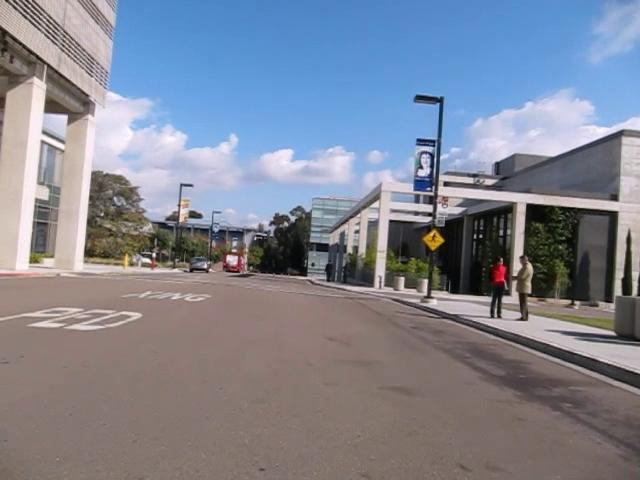pedestrianCrossing: (421, 227, 445, 251)
